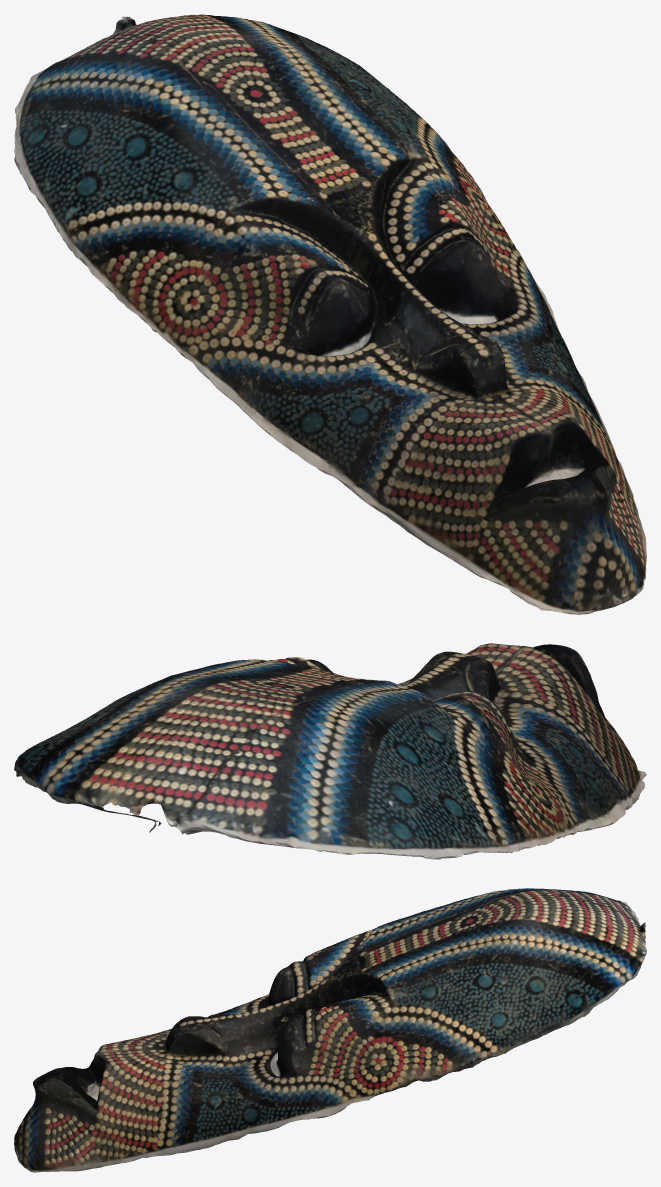
The model's file is masque_sans_cordon.glb.
3 views of the same model, one above another, from view 1: azimuth 30°, elevation 25°; view 2: azimuth 150°, elevation 25°; view 3: azimuth 270°, elevation 25° (orthographic). The views are drawn at different scales.
Parts seen in each view (by area): view 1: geometry_0; view 2: geometry_0; view 3: geometry_0.
Boxes of the visible parts, x1,y1,x2,y2 form: geometry_0: [14, 14, 646, 614]; geometry_0: [14, 643, 646, 859]; geometry_0: [14, 888, 646, 1172].
Bounding box in the file's own units: 0.5795 × 0.4585 × 1.11.
1 material, 1 textured.
